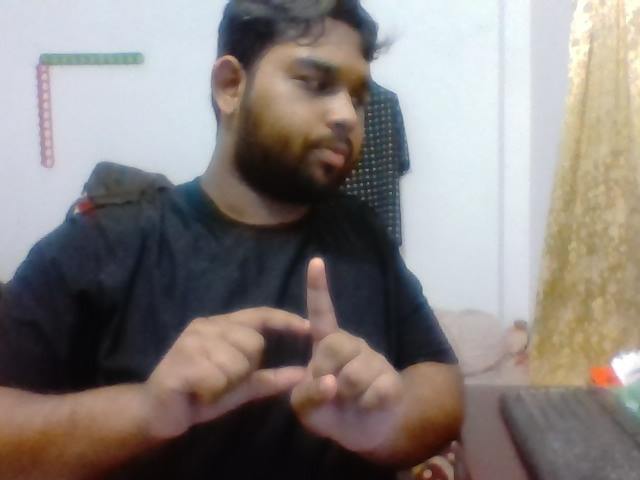D: (163, 243, 408, 446)
